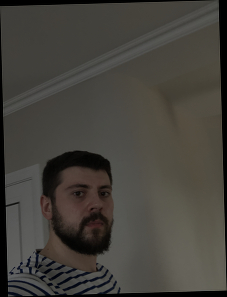without_mask: (61, 175, 115, 258)
